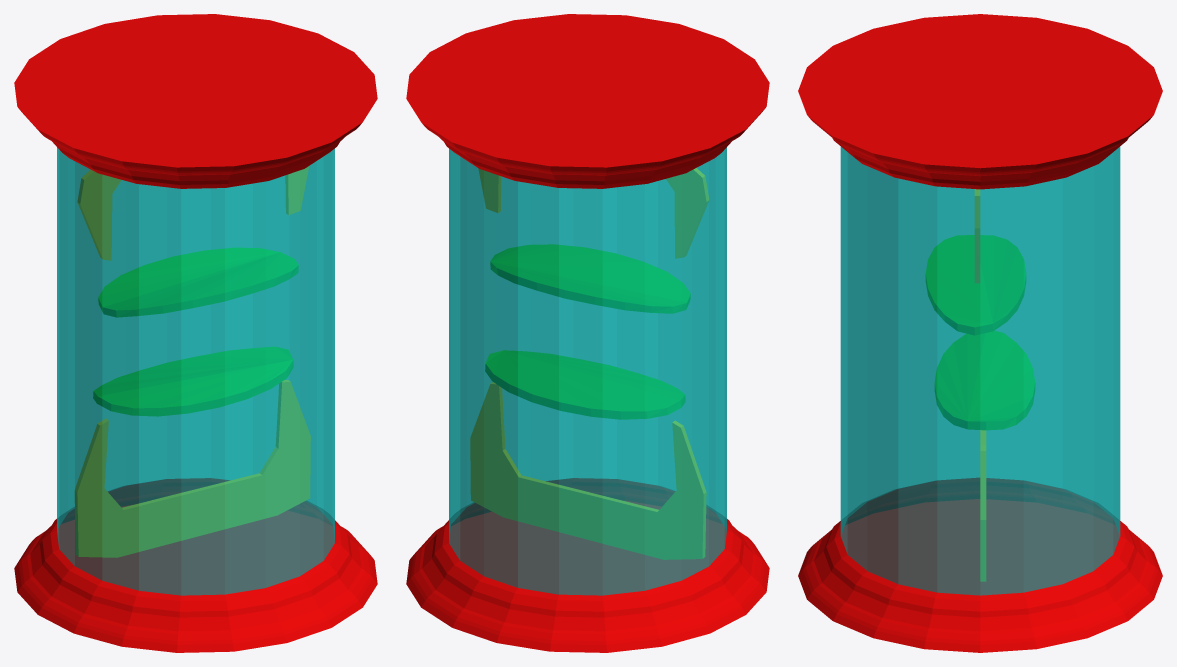
The model's file is LANTERN_base.fbx.
The picture shows the model from 3 angles, left to right: view 1: azimuth 30°, elevation 25°; view 2: azimuth 150°, elevation 25°; view 3: azimuth 270°, elevation 25°; orthographic projection.
Visible parts, largest first — view 1: LANTERN1; view 2: LANTERN1; view 3: LANTERN1.
Part boxes in pixels (x1,y1,x2,y2): LANTERN1: [14, 14, 377, 652]; LANTERN1: [406, 14, 769, 652]; LANTERN1: [798, 14, 1162, 652].
Size of the model in its own units: 7.95 by 11.66 by 7.95.
